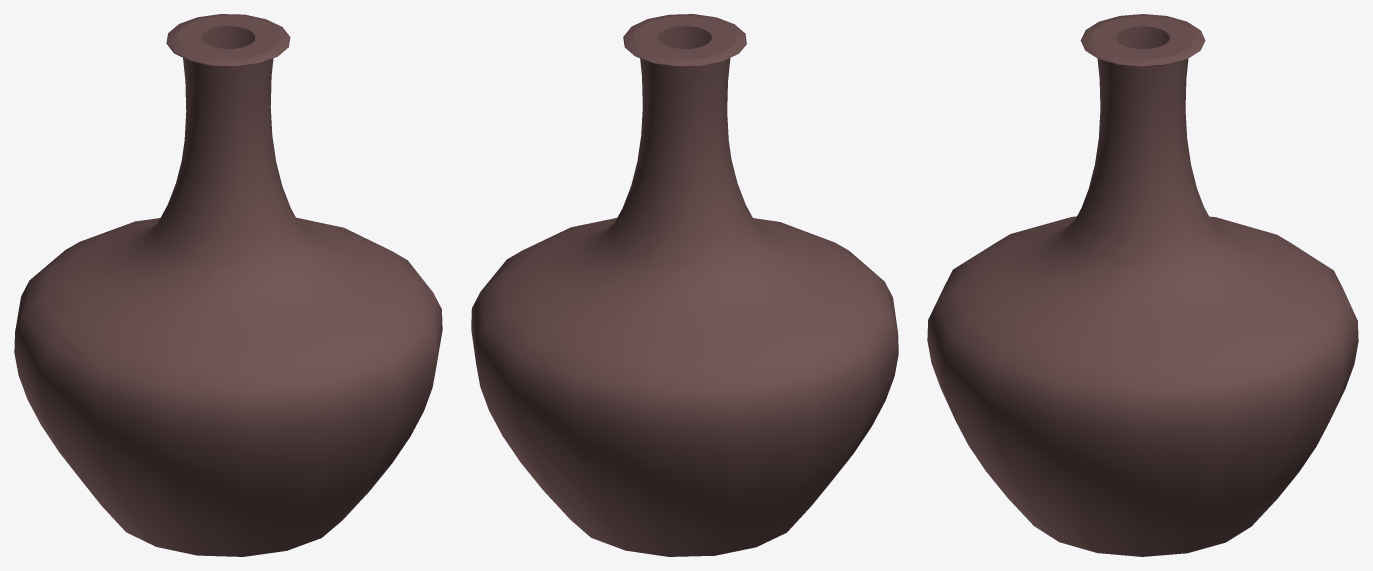
File: Vase 3.FBX
The picture shows the model from 3 angles, left to right: view 1: azimuth 30°, elevation 25°; view 2: azimuth 150°, elevation 25°; view 3: azimuth 270°, elevation 25°; orthographic projection.
Parts seen in each view (by area): view 1: Vase 3; view 2: Vase 3; view 3: Vase 3.
Part boxes in pixels (box(x1,y1,x2,y2)): Vase 3: box(14, 14, 442, 556); Vase 3: box(471, 14, 898, 556); Vase 3: box(927, 14, 1358, 556).
Bounding box in the file's own units: 19.9 × 19.9 × 23.9.
